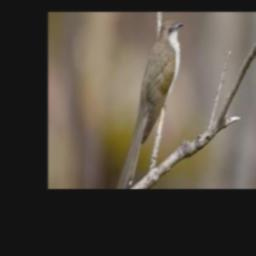Cuckoo: (117, 20, 185, 189)
